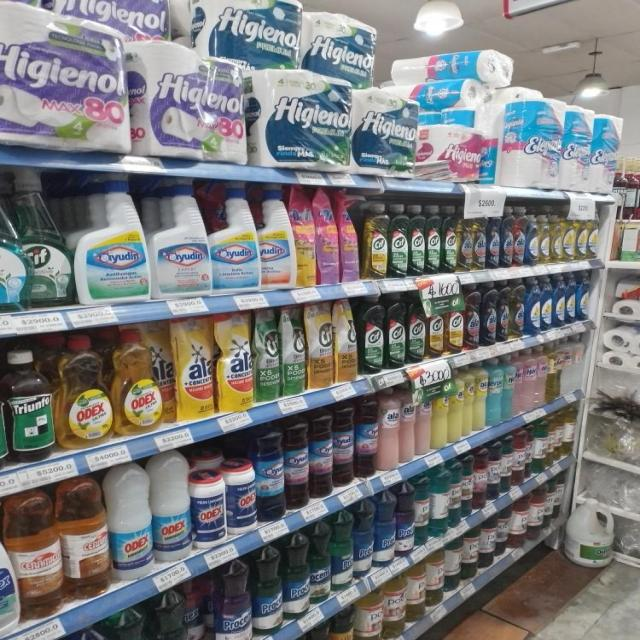ala_conc_amarillo: (509, 278, 524, 339), (457, 207, 471, 271), (472, 208, 486, 270), (497, 280, 509, 343)
ala_conc_azul: (481, 281, 497, 346), (486, 208, 500, 269), (501, 206, 513, 268), (514, 206, 526, 268)
ala_conc_rojo: (464, 283, 480, 349)
ala_crem_amarillo: (432, 377, 448, 449), (449, 369, 463, 443), (474, 362, 486, 432), (466, 363, 476, 434)
ala_crem_rosado: (379, 386, 399, 471), (400, 384, 415, 464), (416, 383, 431, 456)
ala_sachet_amarillo: (173, 314, 214, 420), (217, 311, 253, 412)
cif_conc_bot_amarilla: (363, 202, 388, 280), (426, 292, 444, 358), (444, 289, 462, 354)
cif_conc_botella_verde: (359, 294, 384, 374), (385, 292, 406, 368), (389, 204, 409, 278), (407, 291, 426, 363), (441, 205, 457, 273), (410, 204, 425, 276), (426, 204, 441, 275)
cif_conc_sachet_amarillo: (307, 301, 333, 389), (334, 297, 358, 383)
cif_conc_sachet_verde: (255, 308, 281, 402), (282, 305, 306, 396)
magistral_con_amarillo: (562, 212, 574, 262), (539, 212, 550, 264), (551, 212, 562, 263), (587, 210, 598, 260), (576, 211, 586, 261)
magistral_con_azul: (525, 277, 539, 335), (526, 208, 538, 266), (540, 275, 552, 332), (553, 274, 565, 328)
odex: (57, 333, 112, 448), (114, 326, 166, 435)
